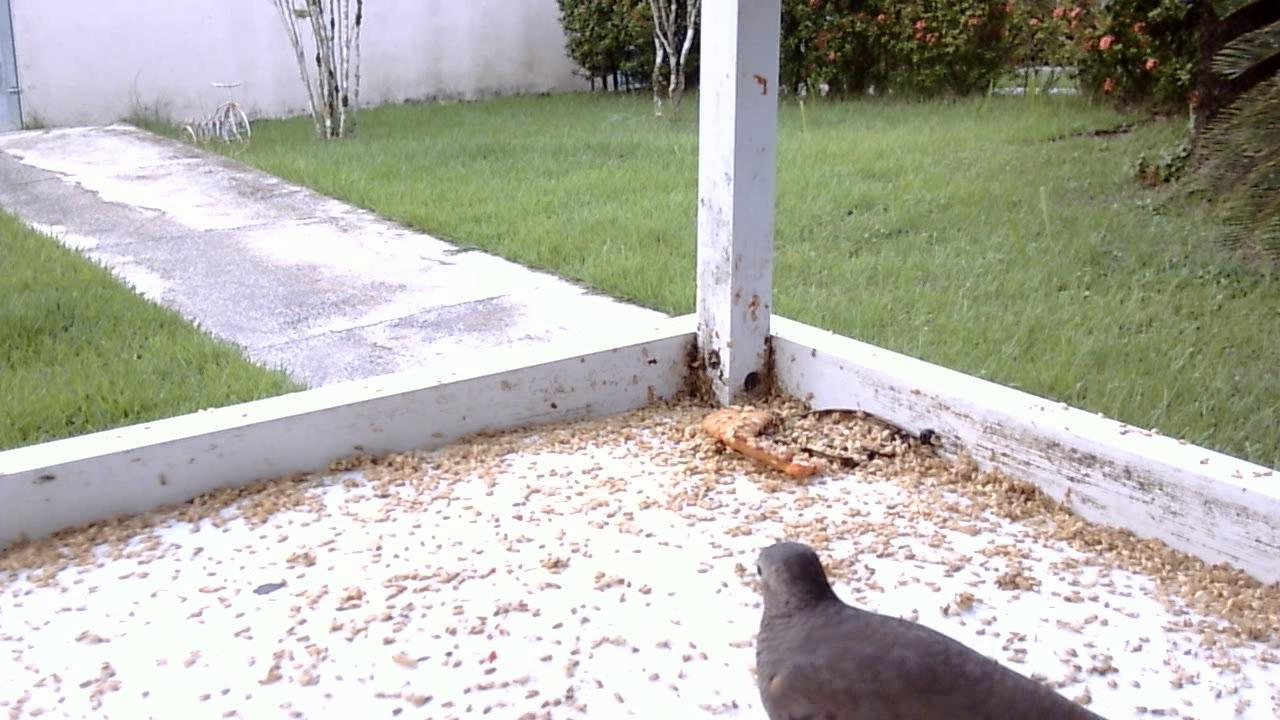rolinha: (751, 527, 1112, 720)
